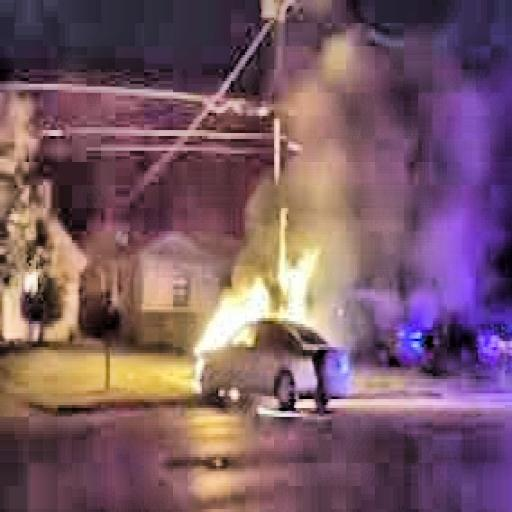fire: (189, 240, 323, 405)
